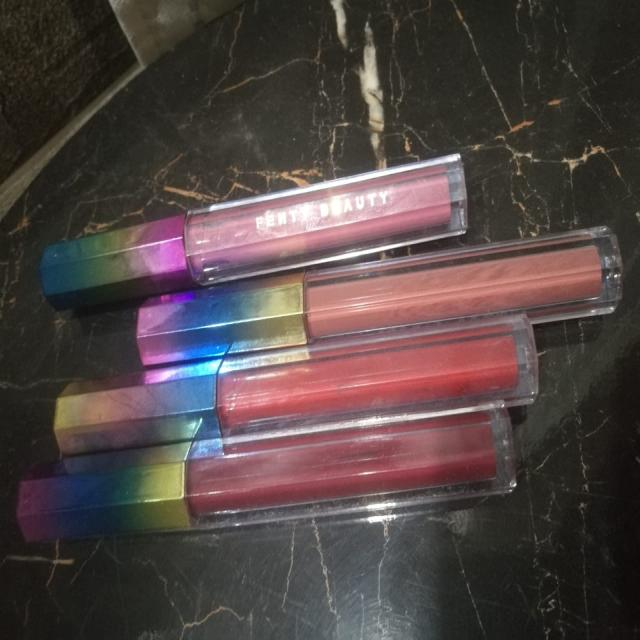lip gloss: (18, 163, 626, 560)
